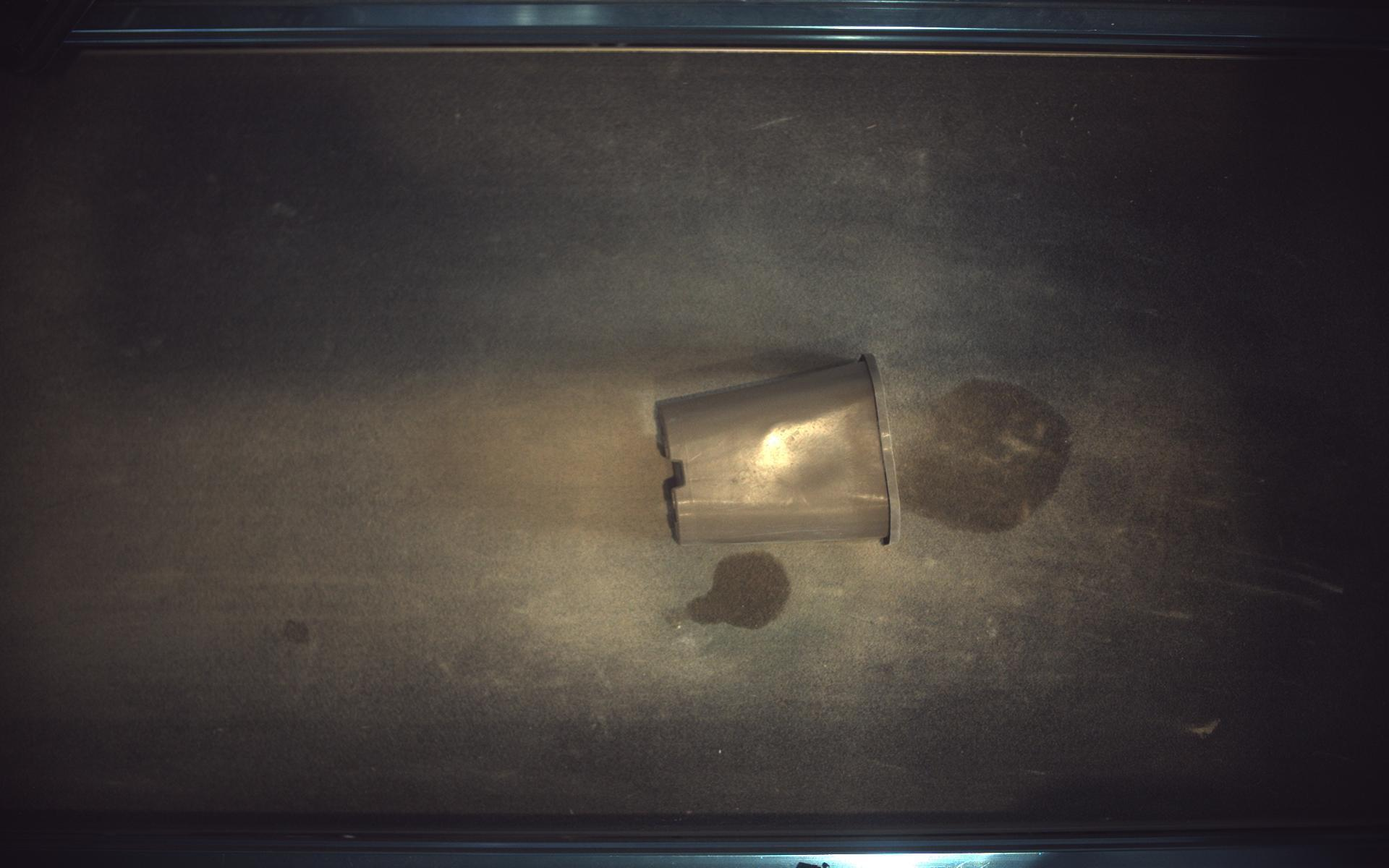general_w: (658, 354, 902, 544)
